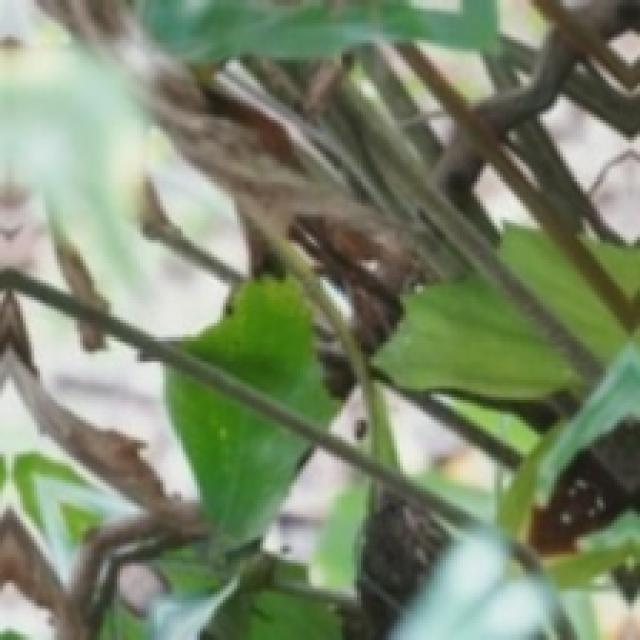paradise tree snake: (0, 0, 637, 637), (151, 157, 249, 269), (257, 449, 349, 560)
